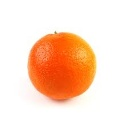orange: (25, 28, 98, 101)
